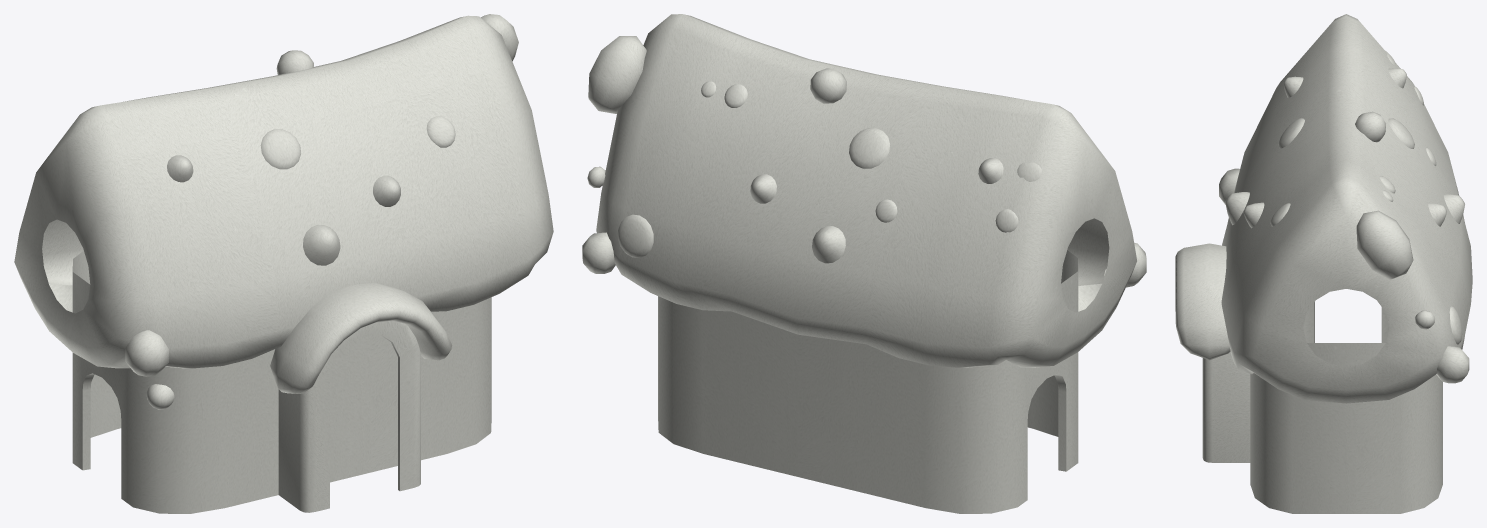
Rendered from fbx_facility_building_01.FBX.
The picture shows the model from 3 angles, left to right: view 1: azimuth 30°, elevation 25°; view 2: azimuth 150°, elevation 25°; view 3: azimuth 270°, elevation 25°; orthographic projection. The views are drawn at different scales.
Parts seen in each view (by area): view 1: facility_building_01; view 2: facility_building_01; view 3: facility_building_01.
Part boxes in pixels (left/top/right/bottom): facility_building_01: left=14, top=14, right=553, bottom=513; facility_building_01: left=582, top=14, right=1146, bottom=513; facility_building_01: left=1175, top=14, right=1472, bottom=513.
Size of the model in its own units: 92.06 by 71.34 by 56.53.
